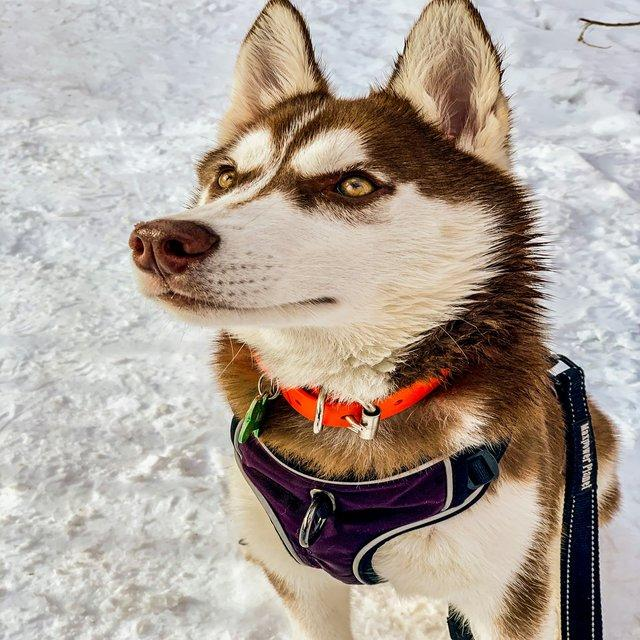husky: (127, 0, 623, 638)
